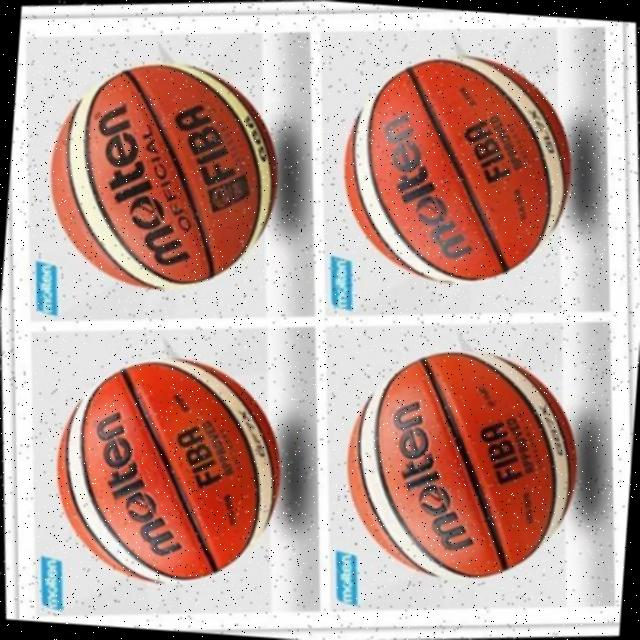ball: (325, 37, 588, 300), (329, 334, 592, 594), (36, 342, 294, 602), (34, 47, 294, 304)
